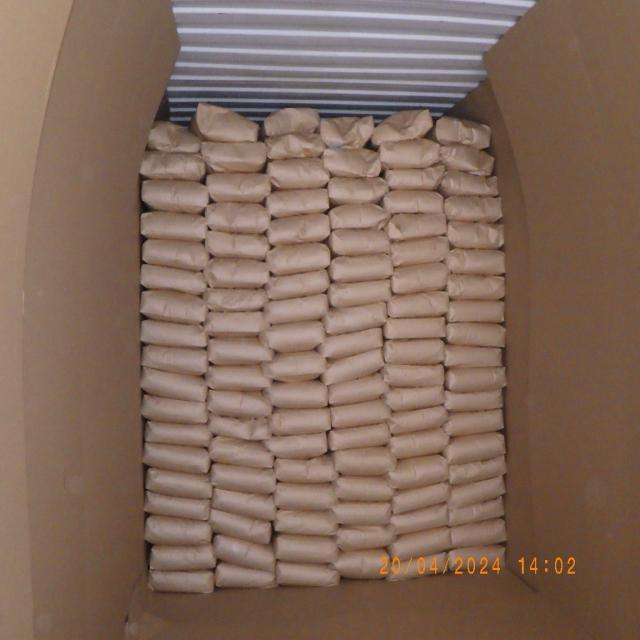gunny_bag: (198, 102, 262, 144), (138, 314, 208, 350), (138, 179, 209, 213), (138, 341, 208, 375), (140, 368, 208, 403), (214, 534, 276, 572), (322, 346, 384, 384), (139, 237, 210, 270), (318, 325, 384, 360), (142, 468, 214, 500), (210, 507, 272, 544), (142, 489, 213, 521), (140, 210, 208, 243), (140, 288, 208, 321), (144, 118, 206, 154), (326, 372, 388, 408), (138, 264, 206, 296), (200, 140, 268, 172), (146, 542, 218, 572), (214, 487, 274, 523), (204, 200, 270, 232), (437, 111, 494, 148), (268, 212, 330, 246), (202, 172, 272, 202), (146, 516, 215, 546), (324, 301, 388, 333), (326, 202, 394, 232), (138, 396, 210, 424), (212, 463, 273, 496), (203, 256, 270, 286), (203, 362, 270, 392), (205, 390, 272, 420), (266, 320, 325, 354), (322, 145, 381, 179), (267, 156, 329, 188), (270, 270, 332, 302), (330, 397, 392, 429), (270, 243, 330, 276), (274, 534, 340, 564), (138, 152, 206, 181), (446, 216, 504, 250), (142, 442, 212, 470), (448, 475, 504, 510), (389, 455, 448, 488), (264, 294, 328, 324), (438, 141, 498, 173), (272, 455, 338, 484), (388, 482, 451, 512), (448, 454, 507, 486), (203, 230, 270, 258), (380, 140, 442, 170), (388, 406, 448, 437), (270, 377, 328, 409), (374, 108, 432, 140), (446, 431, 504, 463), (143, 422, 214, 448), (387, 550, 448, 580), (319, 114, 376, 146), (147, 568, 217, 594), (203, 284, 268, 312), (326, 423, 391, 451), (215, 560, 275, 590), (334, 445, 394, 475), (266, 186, 328, 215), (328, 254, 394, 281), (210, 436, 273, 464), (388, 528, 451, 556), (205, 336, 272, 362), (327, 228, 394, 254), (268, 350, 326, 380), (274, 483, 336, 511), (444, 248, 506, 276), (445, 320, 507, 348), (204, 309, 268, 336), (326, 278, 392, 304), (447, 496, 504, 526), (386, 290, 447, 318), (329, 499, 392, 526), (334, 548, 390, 578), (390, 264, 450, 292), (446, 272, 506, 300), (328, 176, 390, 203), (264, 132, 323, 160), (274, 508, 337, 534), (274, 560, 337, 586), (448, 544, 506, 572), (209, 414, 269, 441), (333, 474, 393, 501), (384, 362, 444, 389), (266, 432, 328, 458), (386, 506, 448, 532), (383, 189, 446, 214), (264, 108, 320, 136), (385, 432, 450, 456), (383, 316, 447, 340), (444, 408, 502, 434), (270, 407, 330, 432), (334, 526, 394, 551), (387, 215, 447, 240), (382, 166, 444, 190), (451, 520, 504, 548), (448, 298, 505, 324), (390, 238, 450, 262), (384, 339, 444, 363), (444, 196, 504, 220), (443, 344, 503, 368), (446, 368, 508, 390), (389, 386, 445, 410), (446, 388, 504, 411), (445, 174, 498, 198)
